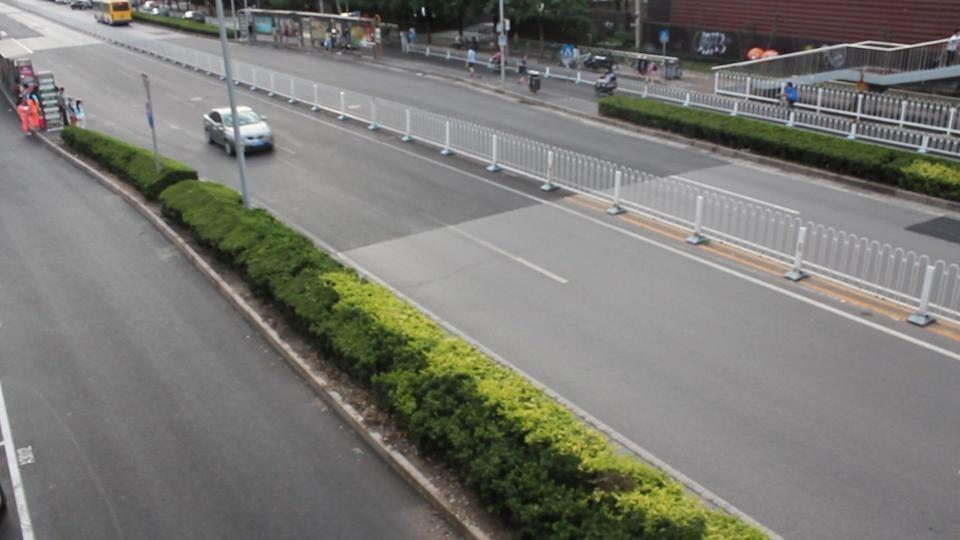car: (202, 106, 274, 156), (594, 70, 618, 96), (70, 0, 94, 10)
